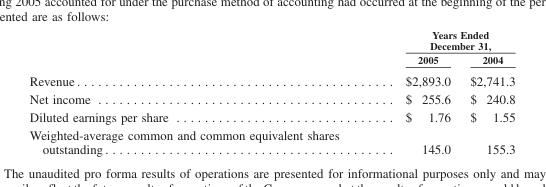table: (28, 28, 514, 156)
table column: (28, 28, 371, 156), (371, 28, 459, 156), (459, 28, 514, 156)
table column header: (28, 28, 514, 69)
table row: (28, 125, 514, 156), (28, 28, 514, 52), (28, 69, 514, 89), (28, 89, 514, 107), (28, 107, 514, 125), (28, 52, 514, 69)
table spanning cell: (371, 28, 514, 52)
